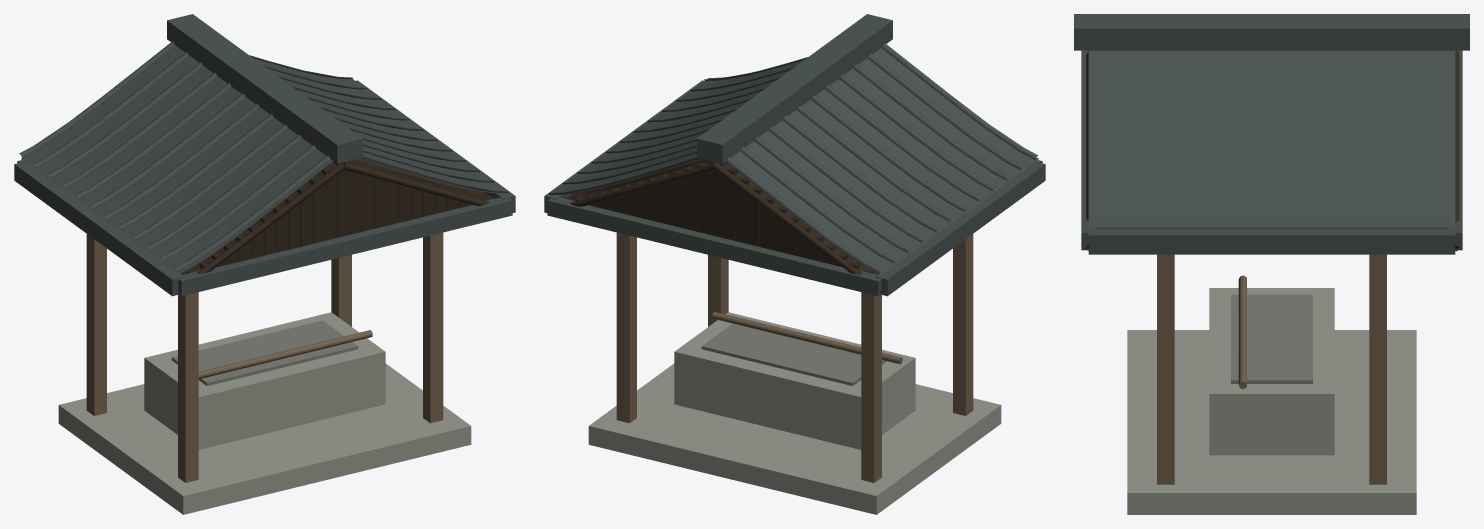
The model's file is temizuya.glb.
The picture shows the model from 3 angles, left to right: view 1: azimuth 30°, elevation 25°; view 2: azimuth 150°, elevation 25°; view 3: azimuth 270°, elevation 25°; orthographic projection. The views are drawn at different scales.
Visible parts, largest first — view 1: roof, stone, wood, darkwood, metal; view 2: roof, stone, wood, darkwood, metal; view 3: roof, stone, wood, metal, darkwood.
Boxes of the visible parts, <box> form: roof: <box>14,14,515,296</box>; stone: <box>58,312,471,514</box>; wood: <box>86,232,443,482</box>; darkwood: <box>177,158,493,292</box>; metal: <box>171,320,358,385</box>; roof: <box>544,14,1045,296</box>; stone: <box>588,312,1001,514</box>; wood: <box>616,232,973,482</box>; darkwood: <box>566,159,882,293</box>; metal: <box>701,323,886,385</box>; roof: <box>1074,14,1469,254</box>; stone: <box>1127,288,1416,514</box>; wood: <box>1157,254,1386,484</box>; metal: <box>1231,294,1312,383</box>; darkwood: <box>1086,51,1459,251</box>.
Size of the model in its own units: 4.77 by 4.71 by 4.1.
